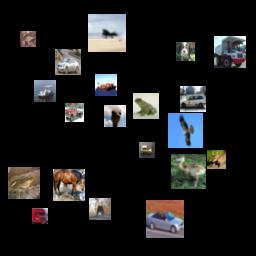airplane: (88, 14, 126, 52)
automobile: (146, 200, 184, 238), (180, 86, 206, 112), (55, 49, 81, 75), (139, 142, 155, 158)
bird: (168, 113, 203, 148), (171, 154, 206, 189), (104, 105, 126, 127)
cat: (89, 198, 111, 220)
deer: (207, 150, 226, 169)
dog: (176, 42, 195, 61)
frog: (8, 167, 40, 199), (133, 93, 159, 119), (20, 31, 36, 47)
ship: (95, 74, 117, 96), (34, 80, 56, 102)
truck: (214, 36, 246, 68), (65, 103, 84, 122), (32, 208, 48, 224)
